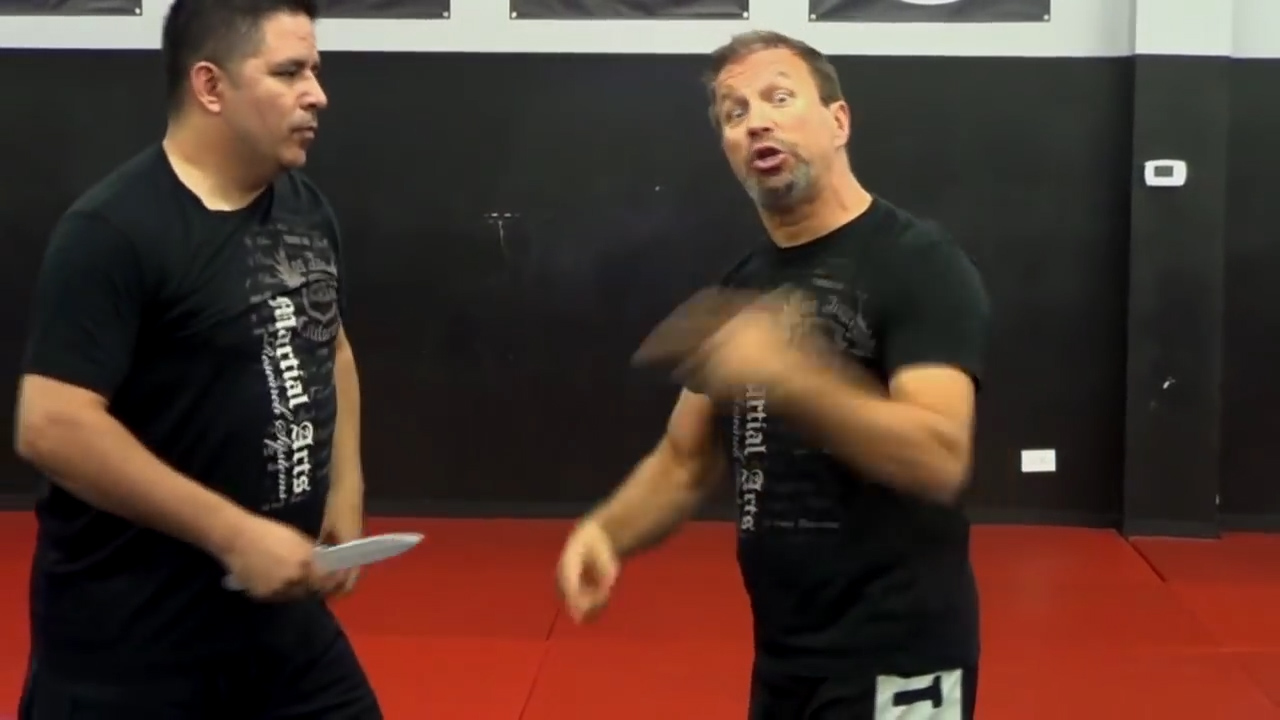knife: (219, 520, 431, 607)
